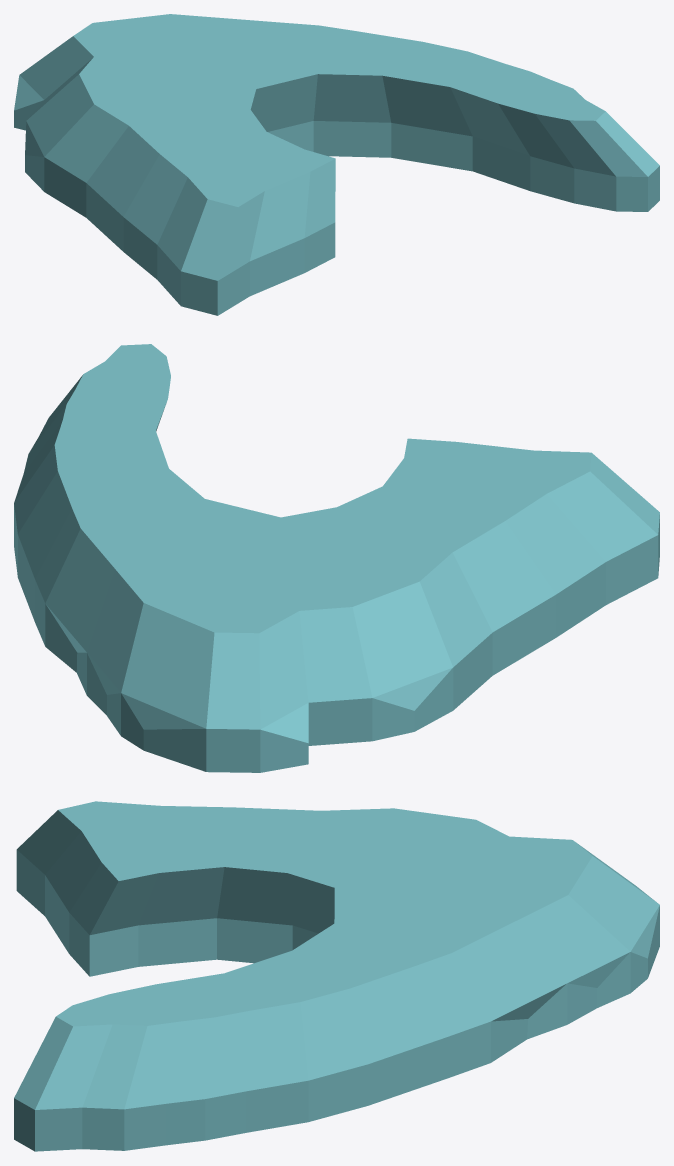
File: BlueObstacle4.fbx
3 views of the same model, one above another, from view 1: azimuth 30°, elevation 25°; view 2: azimuth 150°, elevation 25°; view 3: azimuth 270°, elevation 25° (orthographic). The views are drawn at different scales.
Parts seen in each view (by area): view 1: BlueObstacle4; view 2: BlueObstacle4; view 3: BlueObstacle4.
Part boxes in pixels (left/top/right/bottom): BlueObstacle4: left=14, top=14, right=659, bottom=315; BlueObstacle4: left=14, top=344, right=659, bottom=772; BlueObstacle4: left=14, top=801, right=659, bottom=1151.
Size of the model in its own units: 9.17 by 1.63 by 9.24.
